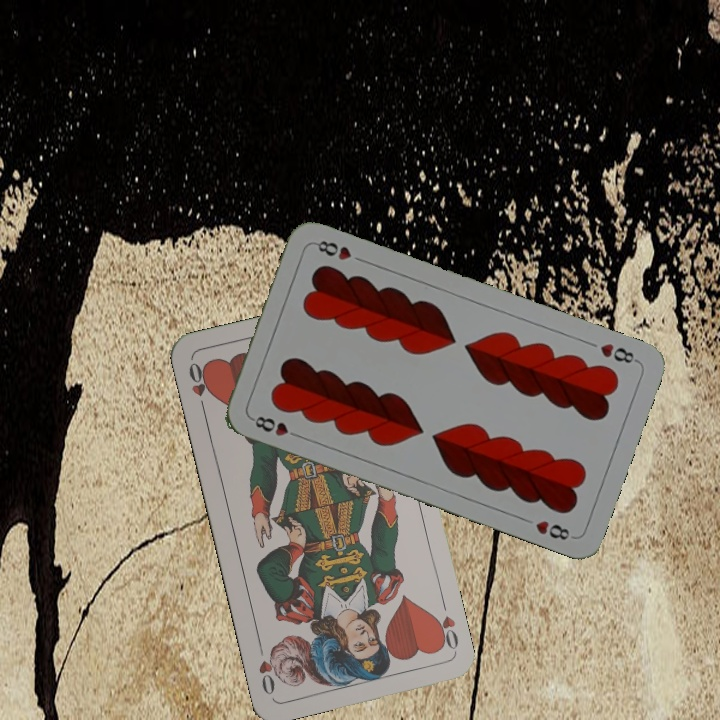H8: (247, 412, 304, 441), (596, 339, 641, 366)
HO: (184, 358, 214, 416), (429, 611, 461, 653)
